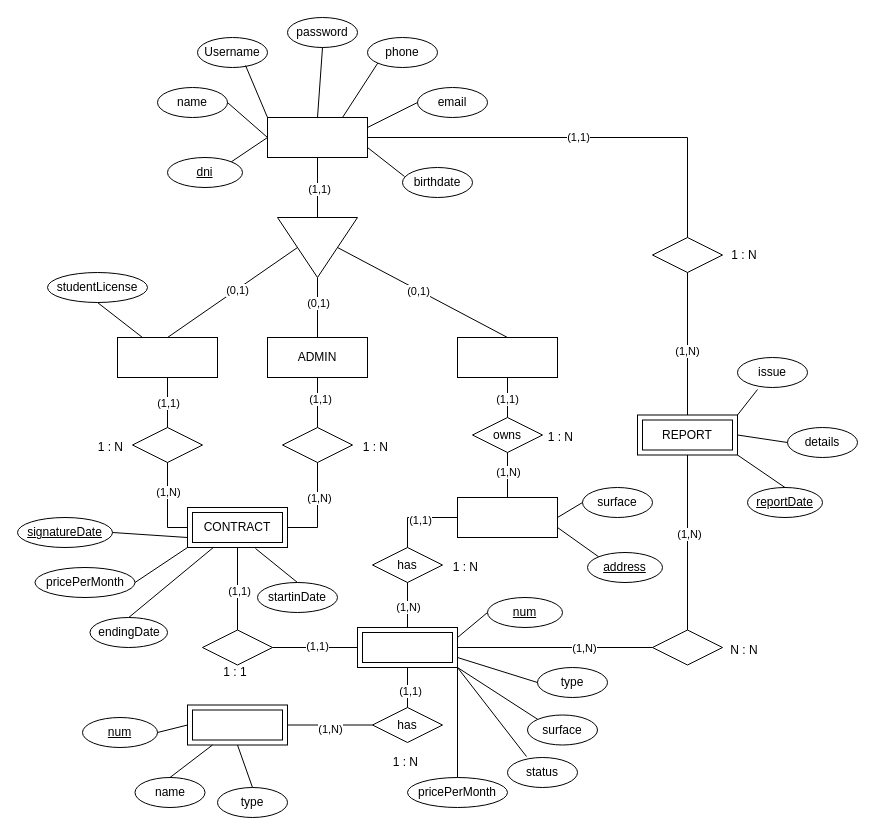
This 875x835 diagram has some shape labels left out. Here are the shapes that lost their labels. From the top down, the centre of each, then its label:
At (x=317, y=137): "USER".
At (x=317, y=247): "IS A".
At (x=687, y=254): "makes".
At (x=167, y=357): "TENANT".
At (x=507, y=357): "OWNER".
At (x=167, y=444): "signs".
At (x=317, y=444): "confirms".
At (x=507, y=517): "PROPERTY".
At (x=237, y=647): "belongs".
At (x=407, y=647): "ROOM".
At (x=687, y=647): "belong".
At (x=237, y=724): "FURNITURE".
